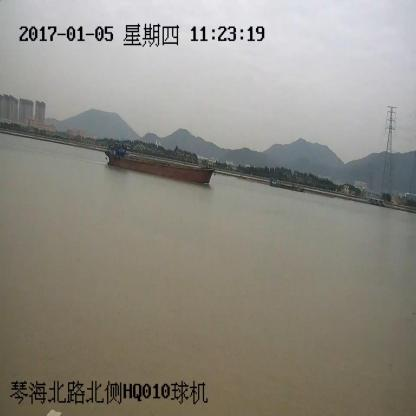Bulk Carrier: (107, 140, 216, 182)
